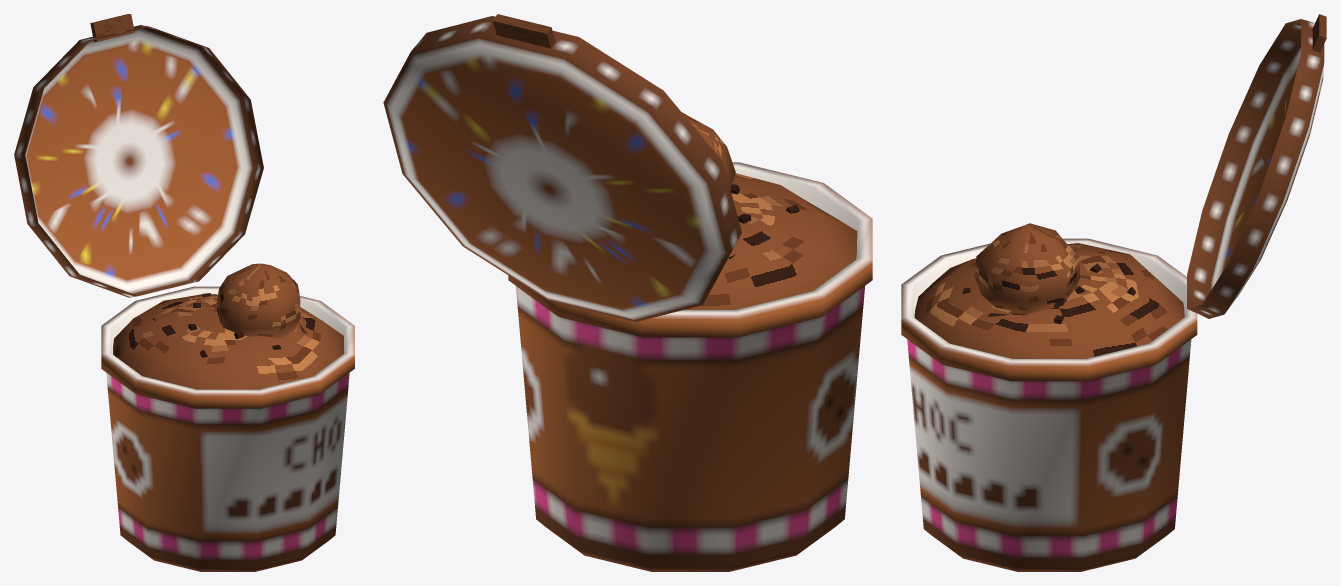
File: Flavor Tub Chocolate.fbx
3 views of the same model, side by side, from view 1: azimuth 30°, elevation 25°; view 2: azimuth 150°, elevation 25°; view 3: azimuth 270°, elevation 25° (orthographic). The views are drawn at different scales.
Parts seen in each view (by area): view 1: Flavor Tub Chocolate lid, Flavor Tub Chocolate tub, Flavor Tub Chocolate ice cream, Flavor Tub Chocolate swirl, Flavor Tub Chocolate lid tab; view 2: Flavor Tub Chocolate tub, Flavor Tub Chocolate lid, Flavor Tub Chocolate ice cream, Flavor Tub Chocolate lid tab, Flavor Tub Chocolate swirl; view 3: Flavor Tub Chocolate tub, Flavor Tub Chocolate lid, Flavor Tub Chocolate ice cream, Flavor Tub Chocolate swirl.
Part boxes in pixels (x1,y1,x2,y2): Flavor Tub Chocolate lid: (14,25,263,297); Flavor Tub Chocolate tub: (101,286,354,571); Flavor Tub Chocolate ice cream: (113,294,343,389); Flavor Tub Chocolate swirl: (216,263,306,338); Flavor Tub Chocolate lid tab: (90,14,134,41); Flavor Tub Chocolate tub: (508,162,872,571); Flavor Tub Chocolate lid: (383,16,741,321); Flavor Tub Chocolate ice cream: (684,173,857,309); Flavor Tub Chocolate lid tab: (493,14,555,48); Flavor Tub Chocolate swirl: (682,112,735,188); Flavor Tub Chocolate tub: (901,238,1197,571); Flavor Tub Chocolate lid: (1187,19,1324,318); Flavor Tub Chocolate ice cream: (914,243,1184,358); Flavor Tub Chocolate swirl: (974,223,1080,316).
Size of the model in its own units: 0.3033 by 0.5406 by 0.4191.
5 materials, 5 textured.
